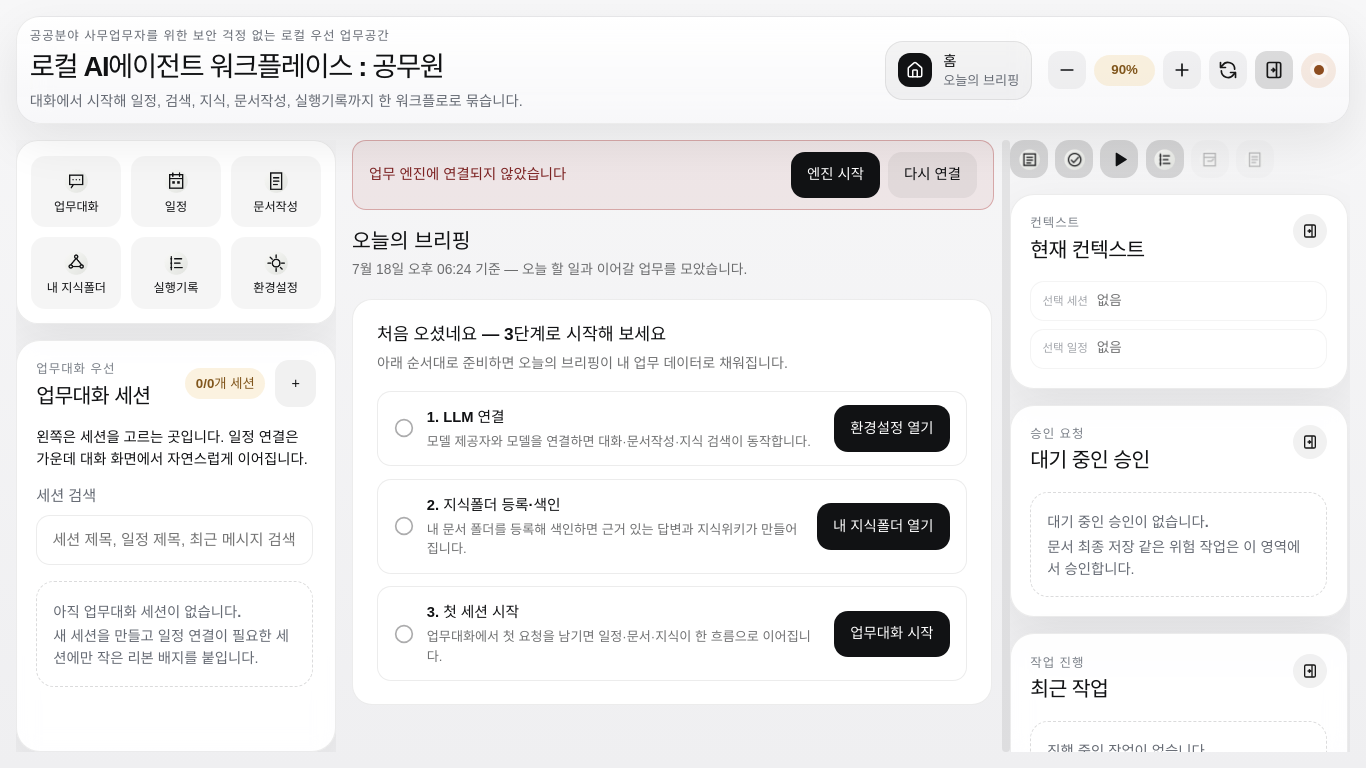
Test: topic vocabulary pack import and candidate queue (vocab spec §5·§6) › shows the review-candidate badge on the dashboard enrich card and the compact pack block in wizard step 1
Click the button "내 지식폴더" at (76, 273), box [31, 237, 121, 309]
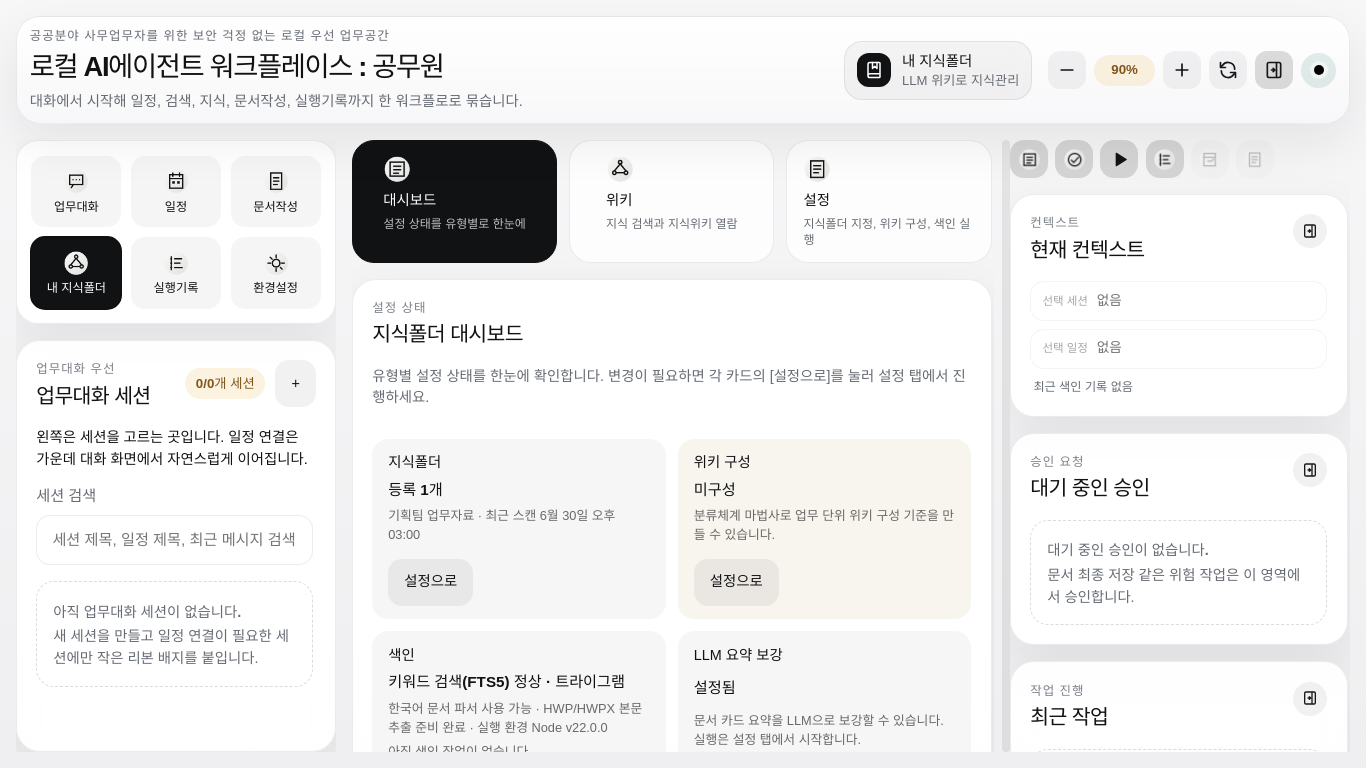
Click the tab "설정 지식폴더 지정, 위키 구성, 색인 실행" at (889, 201), box [786, 140, 992, 263]
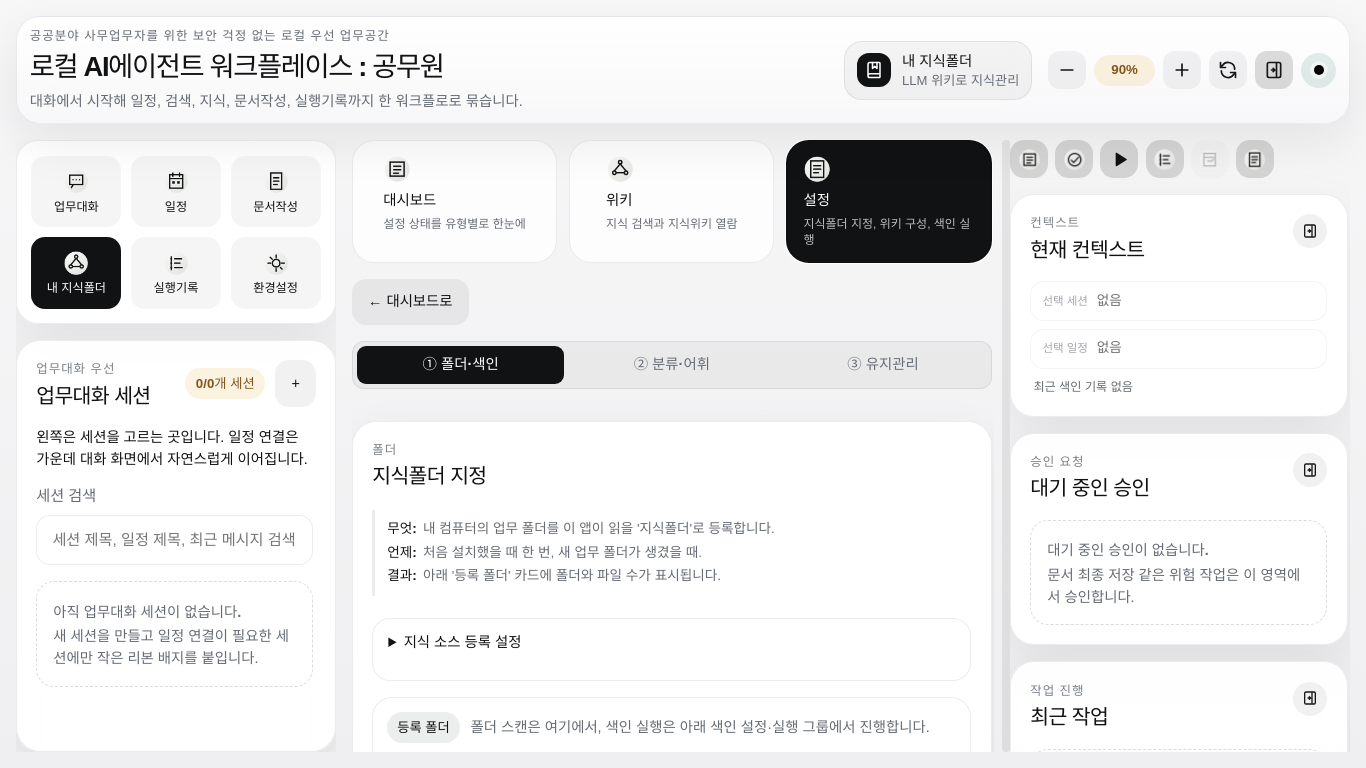
Click the button with test id "knowledge-settings-nav-taxonomy" at (672, 365), box [568, 346, 775, 384]
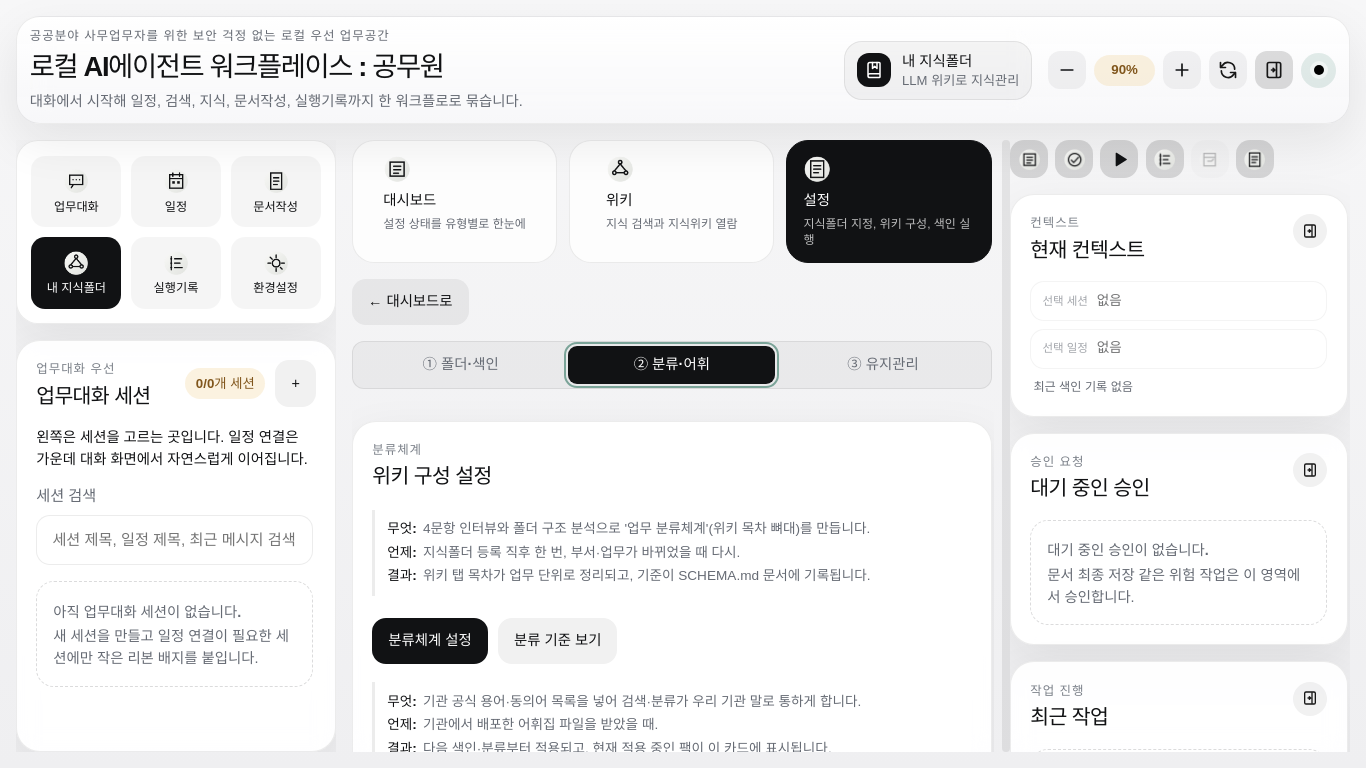
Check: the button "분류체계 설정" is enabled
Click the button "분류체계 설정" at (430, 641), box [372, 618, 488, 664]
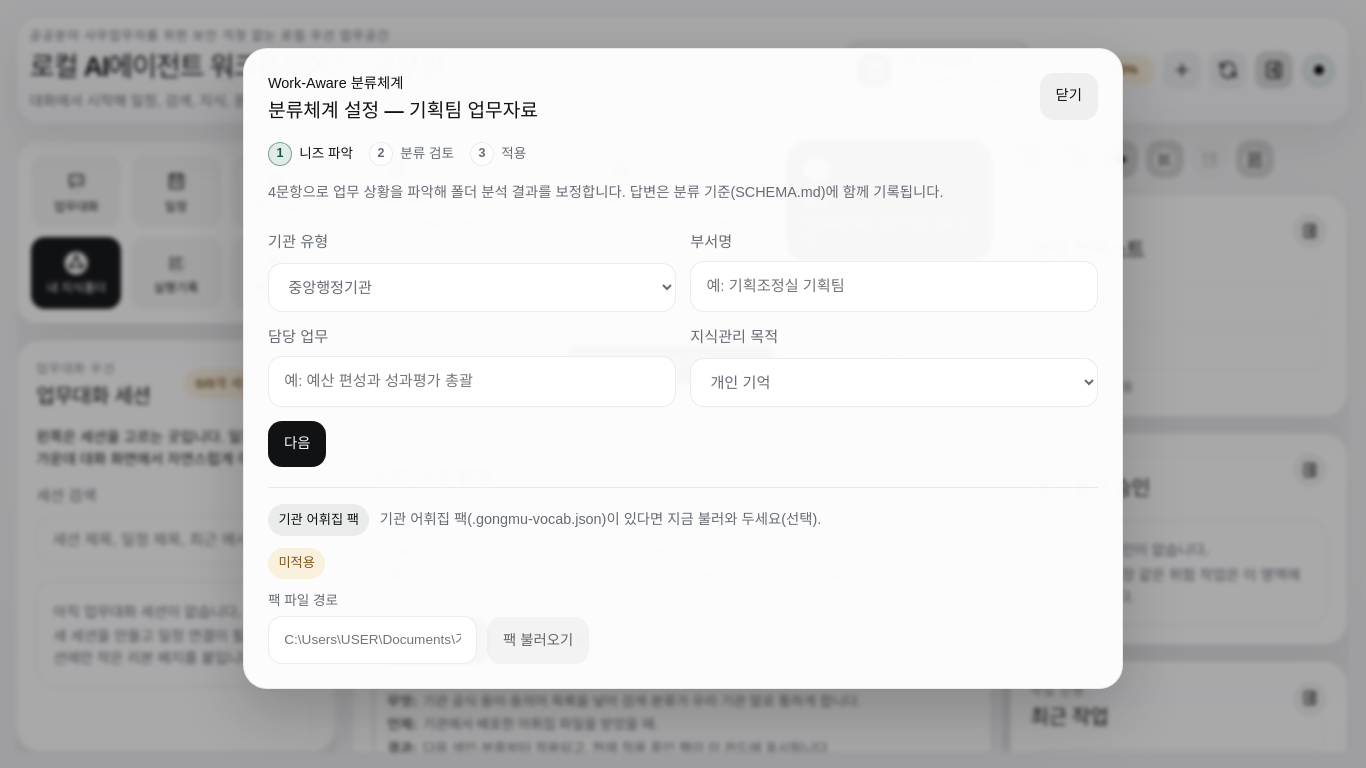
Check: the field labelled "팩 파일 경로" is shown, box [268, 616, 477, 664]
Check: the button "팩 불러오기" is disabled, box [487, 617, 589, 664]
Check: the element with test id "knowledge-vocab-pack-status" reads "미적용", box [278, 555, 315, 570]
